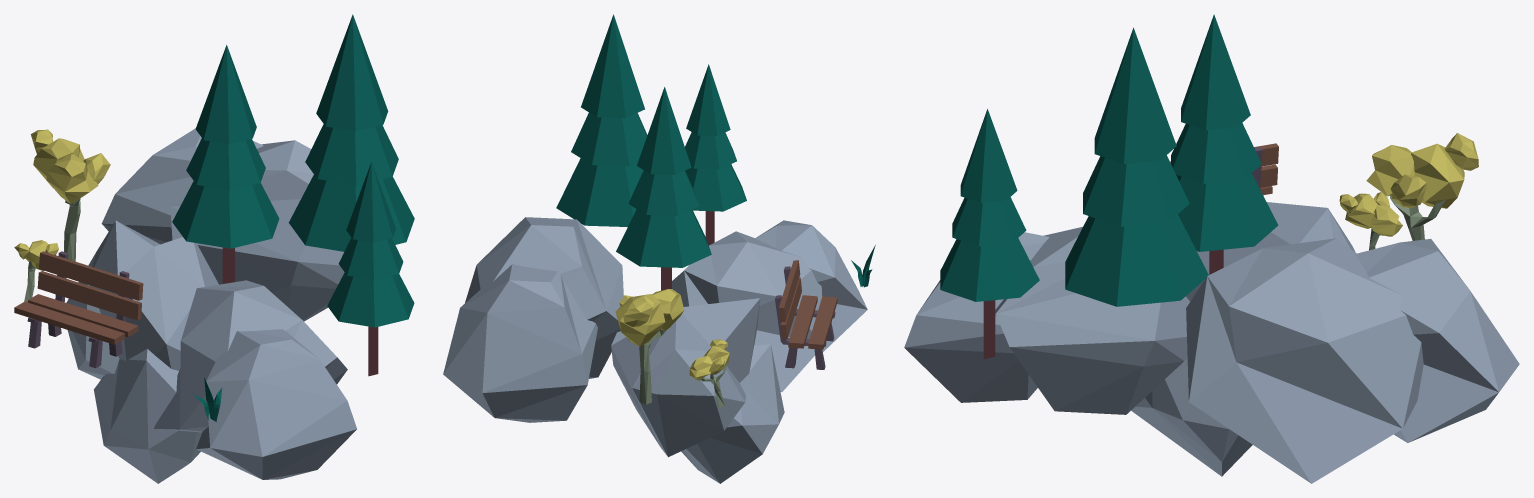
Rendered from bench_rocks.fbx.
3 renders of one model, left to right at view 1: azimuth 30°, elevation 25°; view 2: azimuth 150°, elevation 25°; view 3: azimuth 270°, elevation 25°, orthographic. The views are drawn at different scales.
Parts seen in each view (by area): view 1: rock.001, rock, rock.002, tree.004, tree.002, tree.003, bench.001, minitrees, plant.008; view 2: rock.002, rock, rock.001, tree.004, tree.002, tree.003, minitrees, bench.001; view 3: rock.002, rock.001, tree.004, tree.002, tree.003, rock, minitrees, bench.001.
Boxes of the visible parts, x1,y1,x2,y2 form: rock.001: [154, 280, 356, 479]; rock: [66, 220, 218, 483]; rock.002: [101, 128, 344, 321]; tree.004: [288, 14, 414, 251]; tree.002: [172, 45, 279, 283]; tree.003: [327, 162, 414, 376]; bench.001: [14, 251, 143, 368]; minitrees: [14, 129, 110, 302]; plant.008: [193, 377, 222, 421]; rock.002: [443, 217, 623, 422]; rock: [611, 298, 784, 483]; rock.001: [672, 220, 867, 391]; tree.004: [556, 14, 647, 226]; tree.002: [616, 87, 711, 290]; tree.003: [685, 64, 746, 245]; minitrees: [615, 289, 729, 407]; bench.001: [775, 260, 837, 369]; rock.002: [1186, 238, 1519, 483]; rock.001: [904, 227, 1189, 414]; tree.004: [1065, 27, 1208, 306]; tree.002: [1171, 14, 1278, 274]; tree.003: [940, 109, 1039, 359]; rock: [1131, 202, 1355, 476]; minitrees: [1339, 133, 1478, 250]; bench.001: [1170, 143, 1278, 195].
Bounding box in the file's own units: 376 × 430 × 448.
